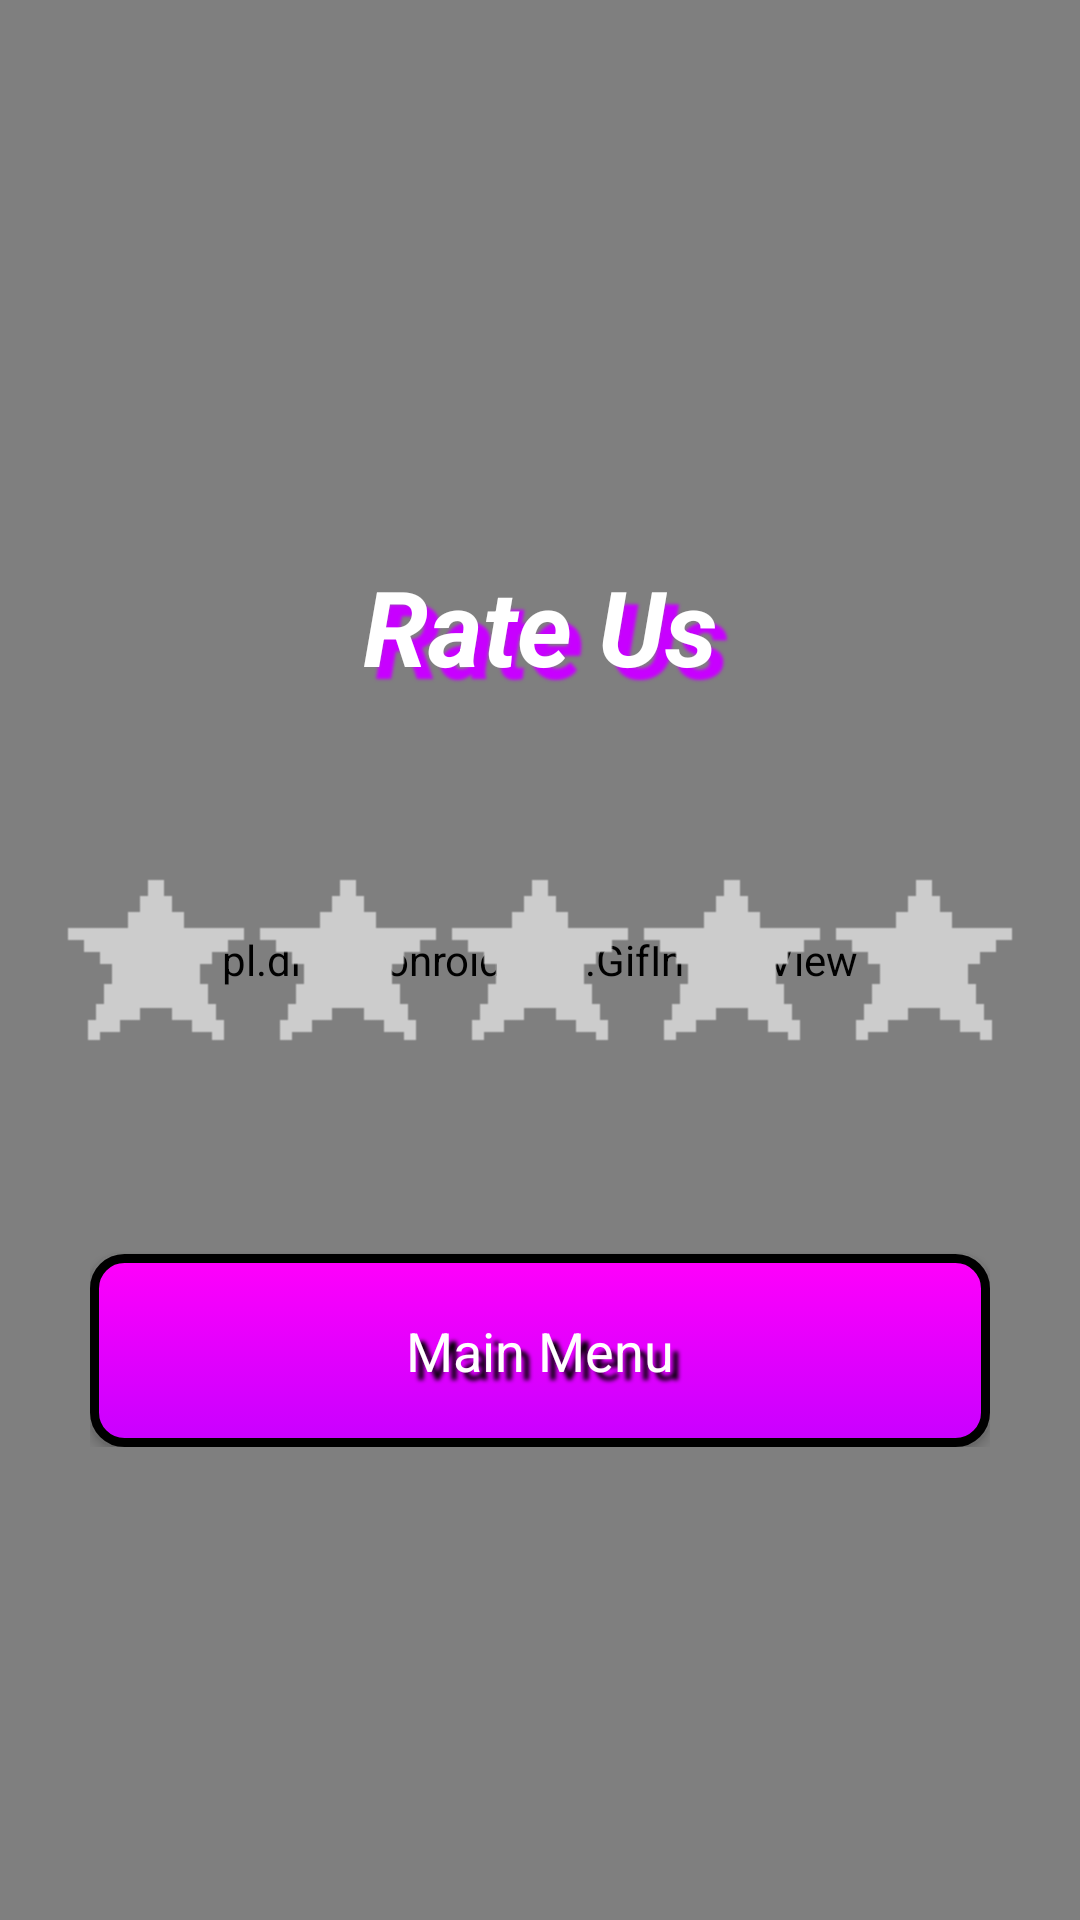

Icon bounding boxes for this 1080w x 1920h phone screenshot, format {"x1": x1, "y1": y1, "x2": x2, "y2": y2}:
star: {"x1": 68, "y1": 880, "x2": 252, "y2": 1040}, {"x1": 252, "y1": 880, "x2": 444, "y2": 1040}, {"x1": 447, "y1": 880, "x2": 633, "y2": 1040}, {"x1": 636, "y1": 880, "x2": 825, "y2": 1040}, {"x1": 828, "y1": 880, "x2": 1012, "y2": 1040}
